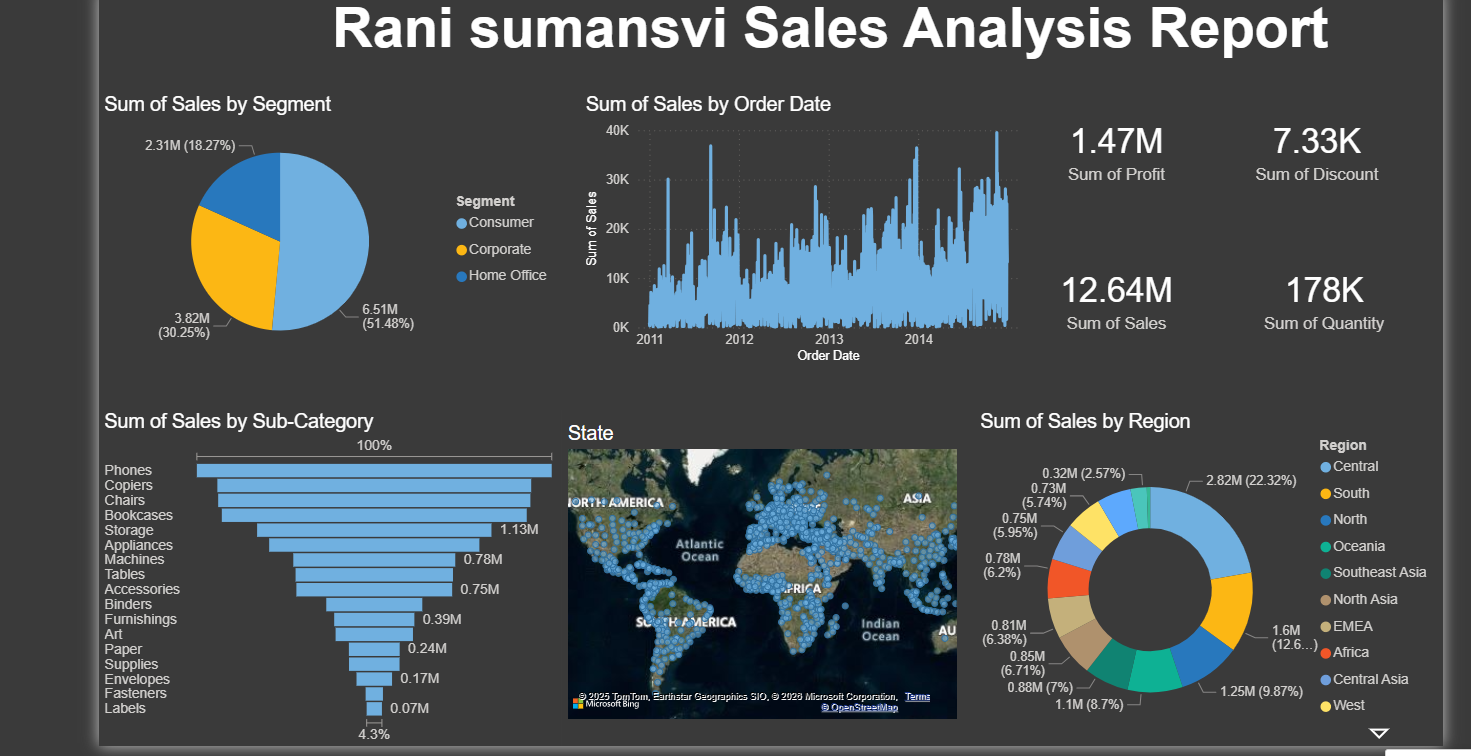

What the dashboard file says about the page in this screenshot:
{"tool":"powerbi","page":{"name":"Page 1","canvas":[1280,720],"ordinal":0},"visuals":[{"type":"donutChart","fields":{"Category":["Orders.Region"],"Y":["Sum(Orders.Sales)"]},"box":[834.8,399.5,445,321],"z":0},{"type":"funnel","fields":{"Category":["Orders.Sub-Category"],"Y":["Sum(Orders.Sales)"]},"box":[0,399.5,440.8,321],"z":1000},{"type":"pieChart","fields":{"Category":["Orders.Segment"],"Y":["Sum(Orders.Sales)"]},"box":[0,98.3,440.3,260.8],"z":2000},{"type":"lineChart","fields":{"Category":["Orders.Order Date"],"Y":["Sum(Orders.Sales)"]},"box":[459.2,98.3,425.2,260.8],"z":3000},{"type":"card","fields":{"Values":["Sum(Orders.Sales)"]},"box":[880.5,253.6,177.2,81.6],"z":4000},{"type":"textbox","box":[217.3,0,984.6,81.3],"z":5000},{"type":"map","fields":{"Category":["Orders.State"]},"box":[440.8,411.9,380.2,287.9],"z":6000},{"type":"card","fields":{"Values":["Sum(Orders.Profit)"]},"box":[880.5,99,177.2,105.9],"z":7000},{"type":"card","fields":{"Values":["Sum(Orders.Quantity)"]},"box":[1069.9,229.3,192.8,130.3],"z":8000},{"type":"card","fields":{"Values":["Sum(Orders.Discount)"]},"box":[1069.9,99,178.9,105.9],"z":9000}]}

Visuals, with their boxes on the page's 1280x720 design canvas (x1, y1, x2, y2). These are canvas units, not pixel positions in the 1471x756 screenshot, which may show the page scaled, cropped or inside an application window:
donutChart - Orders.Region x Sum(Orders.Sales): 835/400/1280/720
funnel - Orders.Sub-Category x Sum(Orders.Sales): 0/400/441/720
pieChart - Orders.Segment x Sum(Orders.Sales): 0/98/440/359
lineChart - Orders.Order Date x Sum(Orders.Sales): 459/98/884/359
card - Sum(Orders.Sales): 880/254/1058/335
textbox: 217/0/1202/81
map - Orders.State: 441/412/821/700
card - Sum(Orders.Profit): 880/99/1058/205
card - Sum(Orders.Quantity): 1070/229/1263/360
card - Sum(Orders.Discount): 1070/99/1249/205
